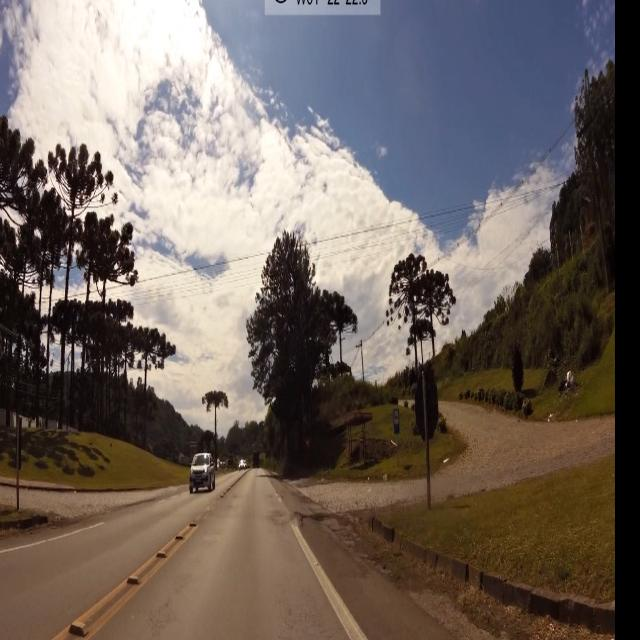S-14: (392, 407, 402, 434)
